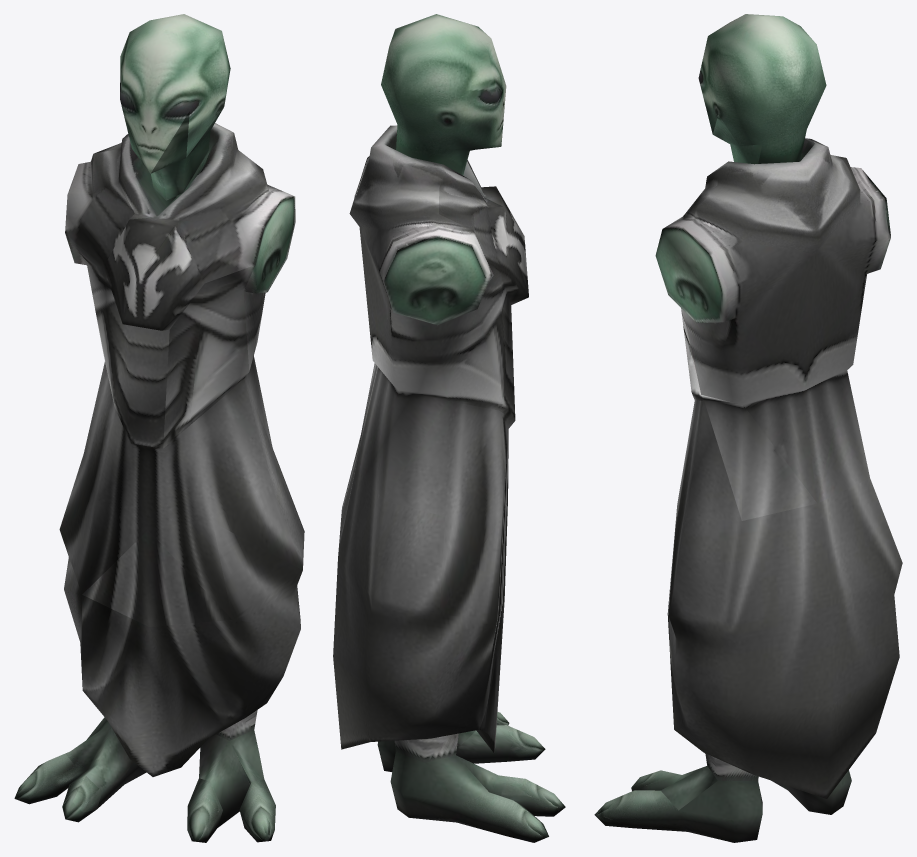
The model's file is fuzeball_player_grimlot_lowPoly.glb.
3 views of the same model, side by side, from view 1: azimuth 30°, elevation 25°; view 2: azimuth 150°, elevation 25°; view 3: azimuth 270°, elevation 25° (orthographic). The views are drawn at different scales.
Parts seen in each view (by area): view 1: room_cab2_body.001; view 2: room_cab2_body.001; view 3: room_cab2_body.001.
Part boxes in pixels (x1,y1,x2,y2): room_cab2_body.001: (14,14,304,842); room_cab2_body.001: (333,14,565,842); room_cab2_body.001: (594,14,902,842).
Size of the model in its own units: 3.73 by 11.08 by 3.88.
1 material, 1 textured.
